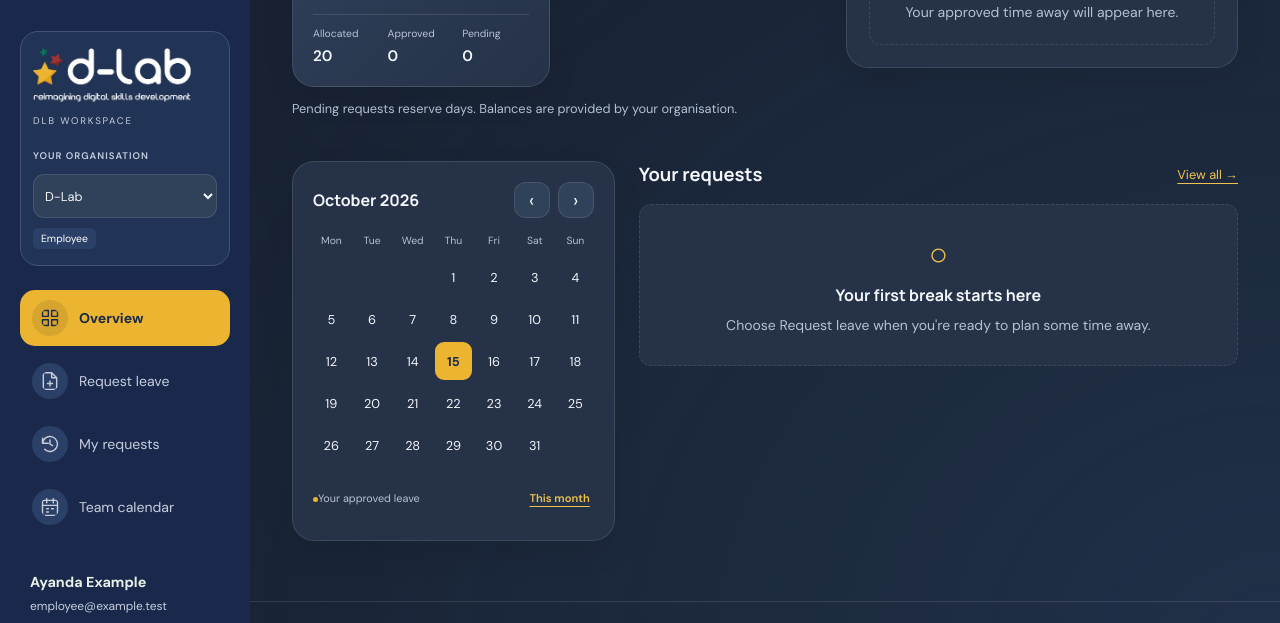
Frontend integration flows › opens the full calendar at the day clicked in the dashboard calendar
This screenshot has width=1280, height=623.
(page scrolled)
Click the link "1".
click(453, 277)  # box [451,269,455,286]
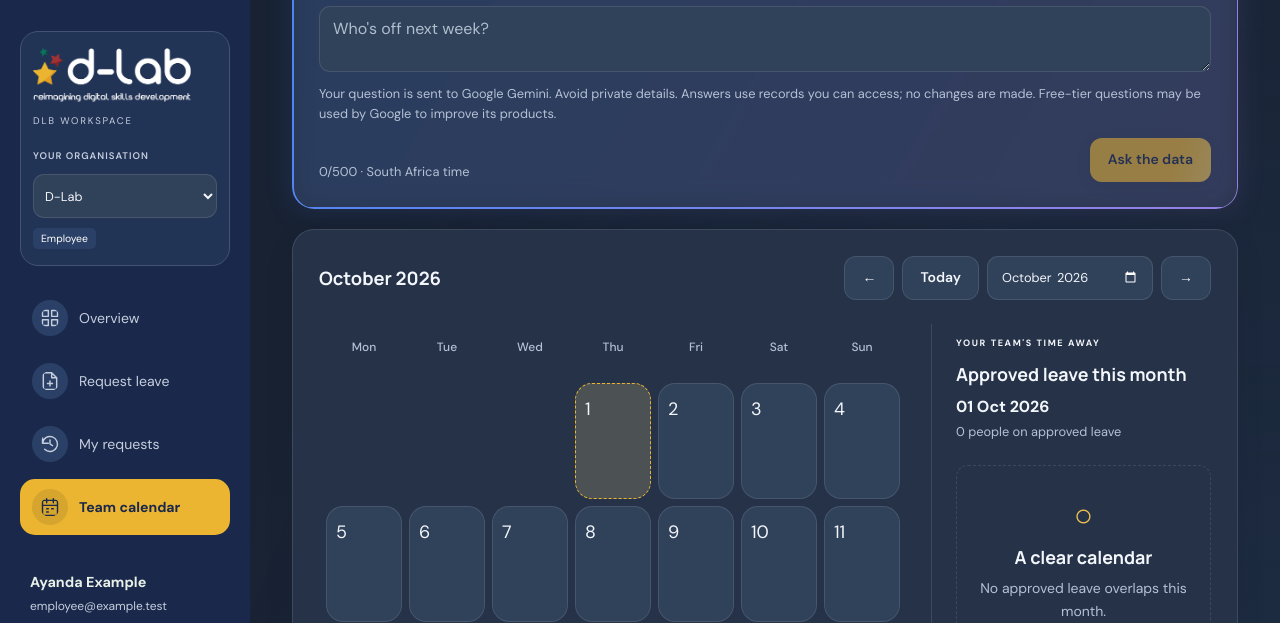
Check: the field named "Calendar month" holds "2026-10", box [987,256,1153,300]
